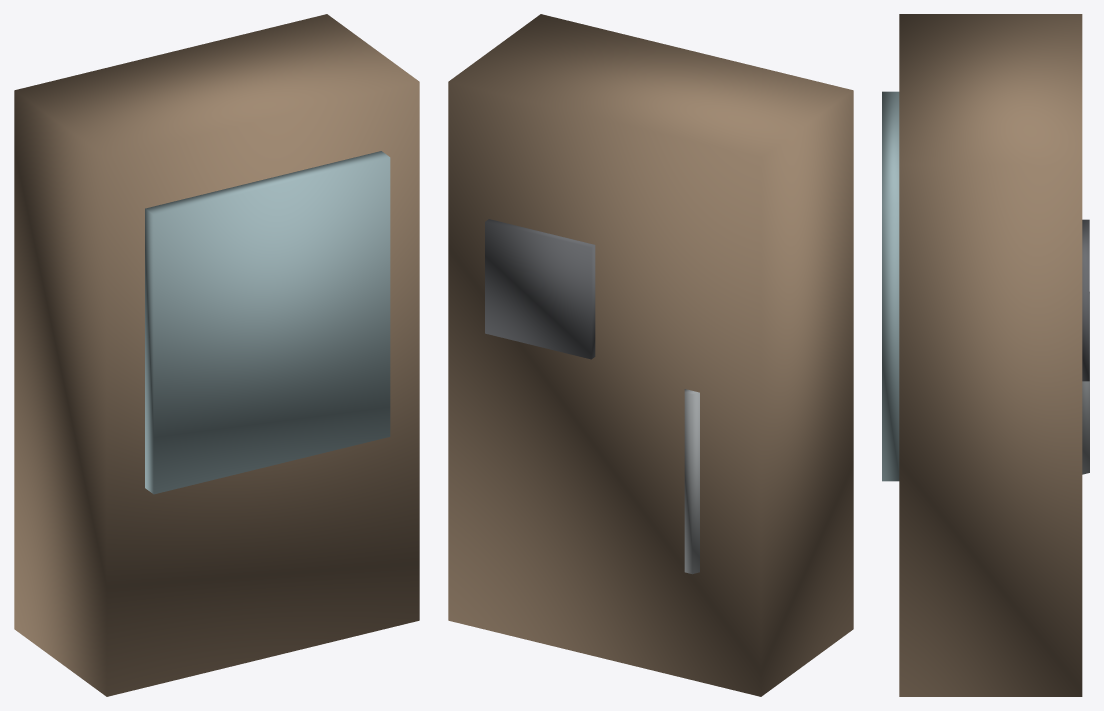
Rendered from shrine_cabinet__service.glb.
3 renders of one model, left to right at view 1: azimuth 30°, elevation 25°; view 2: azimuth 150°, elevation 25°; view 3: azimuth 270°, elevation 25°, orthographic.
Parts seen in each view (by area): view 1: world; view 2: world; view 3: world.
Part boxes in pixels (left/top/right/bottom): world: left=14, top=14, right=419, bottom=696; world: left=448, top=14, right=853, bottom=696; world: left=882, top=14, right=1089, bottom=696.
Size of the model in its own units: 0.82 by 1.35 by 0.4778.
